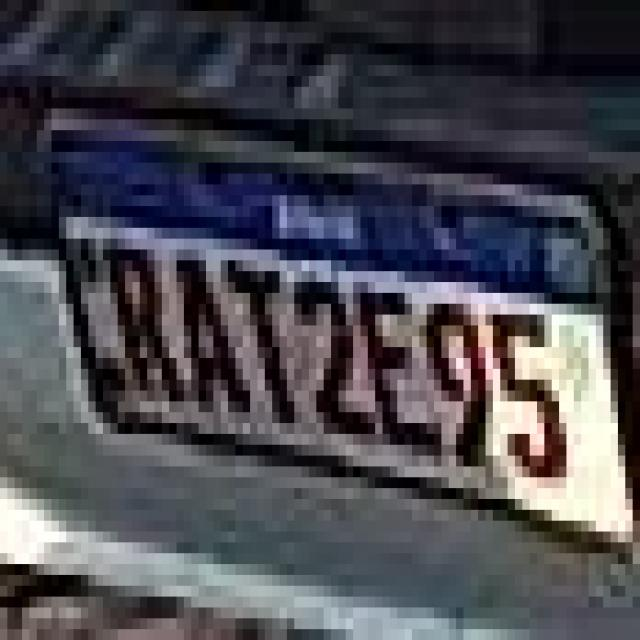5: (490, 302, 572, 484)
9: (427, 291, 488, 471)
A: (176, 241, 242, 432)
E: (354, 271, 428, 449)
R: (108, 237, 177, 410)
T: (227, 255, 300, 426)
